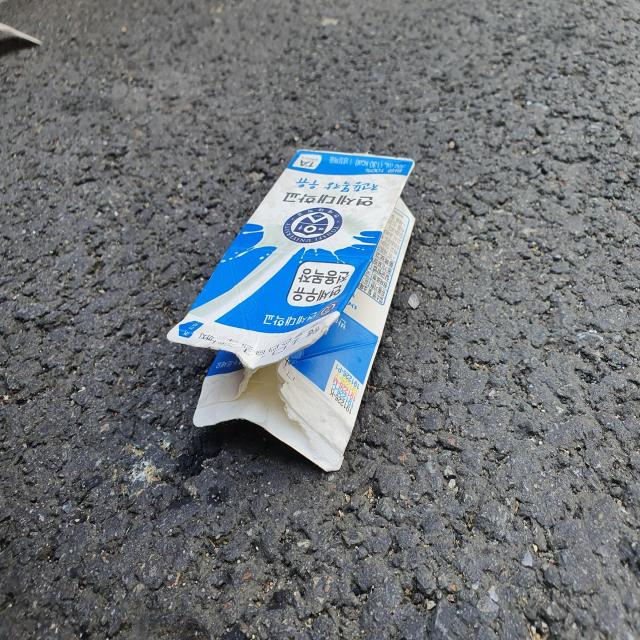paperpack: (167, 148, 415, 471)
